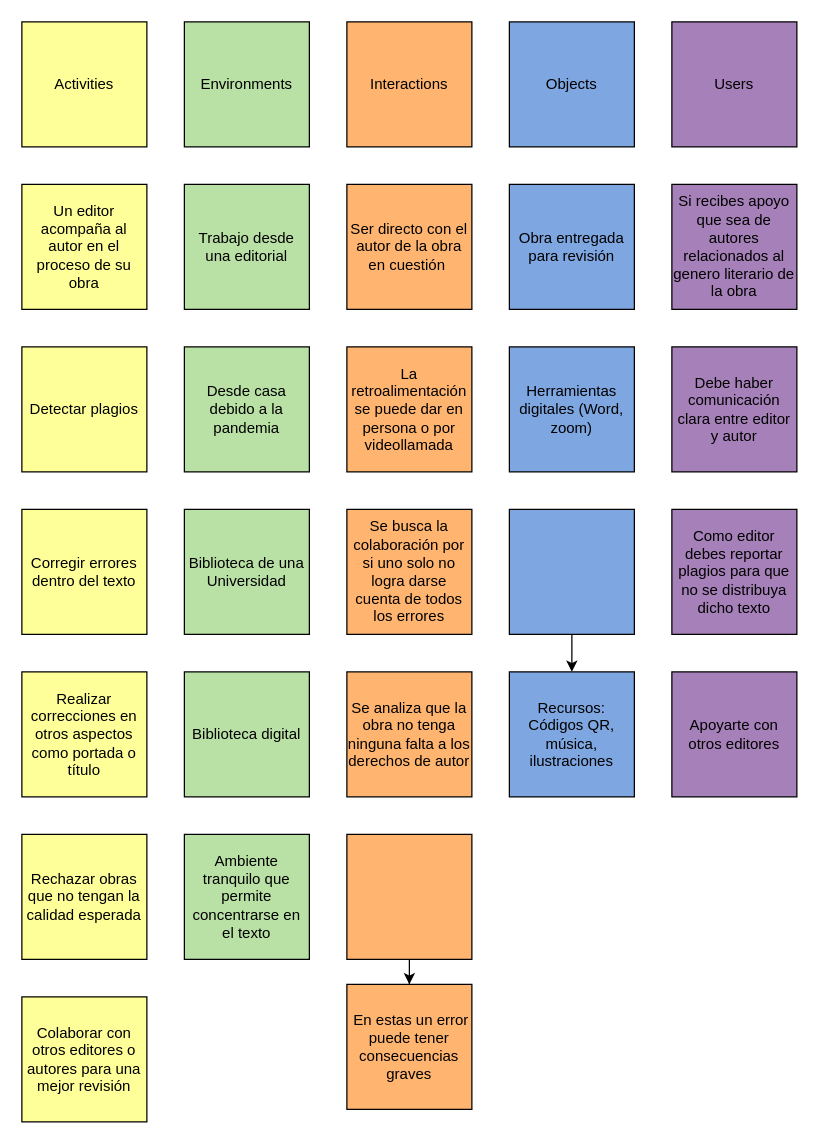
This 819x1144 diagram has some shape labels left out. Here are the shapes that lost their labels. From the top down, the centre of each, then its label:
(571,571): Recursos digitales implementados en libros tradicionales, digitales o audios
(409,896): Se tiene extremo cuidados con obras destinadas a la educación.
